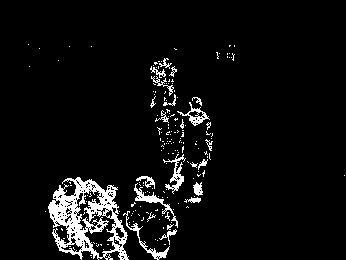person: (126, 176, 178, 260), (77, 186, 131, 260), (184, 95, 215, 204), (47, 177, 84, 259), (156, 109, 184, 193), (150, 59, 177, 107)
